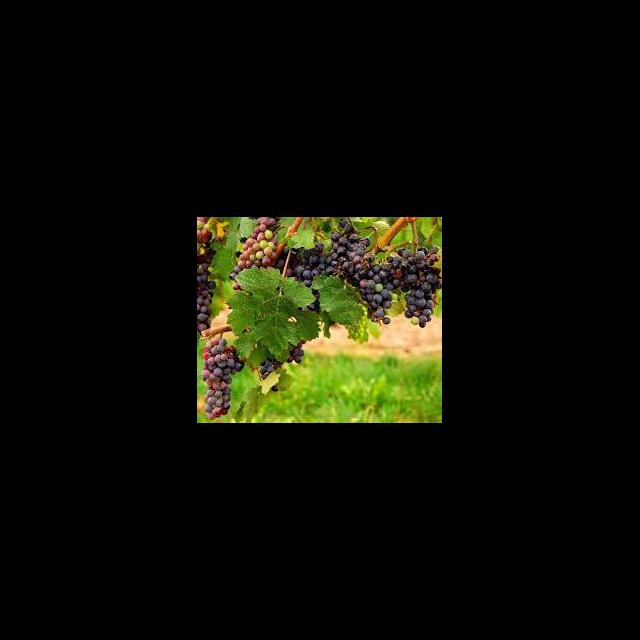grape: (392, 243, 439, 326), (202, 337, 244, 420)
